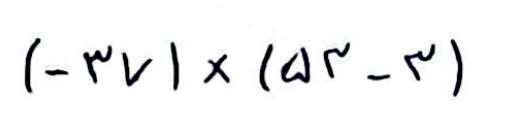character: (404, 43, 437, 82), (280, 46, 311, 84), (83, 44, 112, 84), (122, 51, 152, 86), (323, 42, 352, 78), (24, 38, 40, 93), (202, 54, 232, 83), (450, 37, 464, 97), (258, 43, 275, 91), (169, 42, 183, 91), (368, 73, 392, 86), (45, 69, 73, 79)
